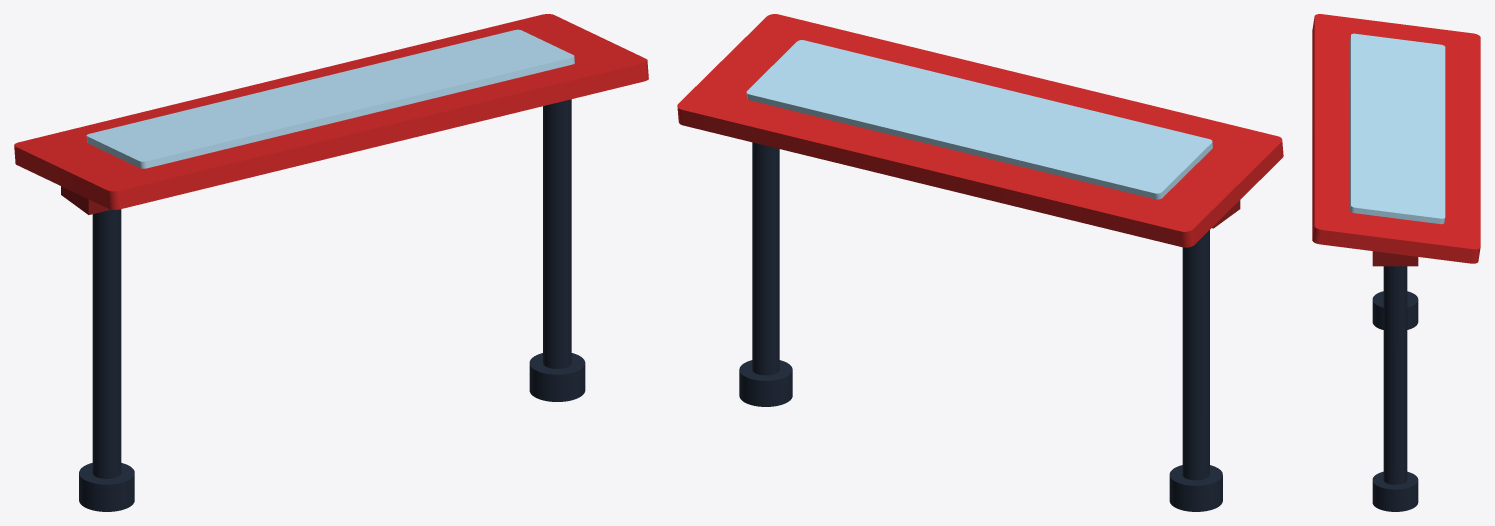
File: platform_canopy.glb
3 views of the same model, side by side, from view 1: azimuth 30°, elevation 25°; view 2: azimuth 150°, elevation 25°; view 3: azimuth 270°, elevation 25° (orthographic). The views are drawn at different scales.
Parts seen in each view (by area): view 1: pc_roof, pc_sky, pc_col_L, pc_col_R, pc_foot_R, pc_foot_L; view 2: pc_roof, pc_sky, pc_col_L, pc_col_R, pc_foot_R, pc_foot_L; view 3: pc_roof, pc_sky, pc_col_R, pc_foot_R, pc_foot_L, pc_beam.
Part boxes in pixels (left/top/right/bottom): pc_roof: left=14, top=14, right=648, bottom=209; pc_sky: left=86, top=29, right=574, bottom=168; pc_col_L: left=92, top=209, right=121, bottom=478; pc_col_R: left=543, top=99, right=571, bottom=368; pc_foot_R: left=529, top=353, right=585, bottom=401; pc_foot_L: left=79, top=463, right=134, bottom=511; pc_roof: left=677, top=14, right=1283, bottom=247; pc_sky: left=746, top=40, right=1212, bottom=199; pc_col_L: left=1182, top=230, right=1209, bottom=480; pc_col_R: left=752, top=142, right=779, bottom=375; pc_foot_R: left=739, top=360, right=792, bottom=406; pc_foot_L: left=1169, top=465, right=1222, bottom=511; pc_roof: left=1312, top=14, right=1480, bottom=263; pc_sky: left=1350, top=33, right=1445, bottom=224; pc_col_R: left=1383, top=266, right=1407, bottom=484; pc_foot_R: left=1372, top=471, right=1418, bottom=511; pc_foot_L: left=1372, top=291, right=1418, bottom=329; pc_beam: left=1372, top=251, right=1418, bottom=266.
Size of the model in its own units: 1.34 by 0.8449 by 0.4416.
